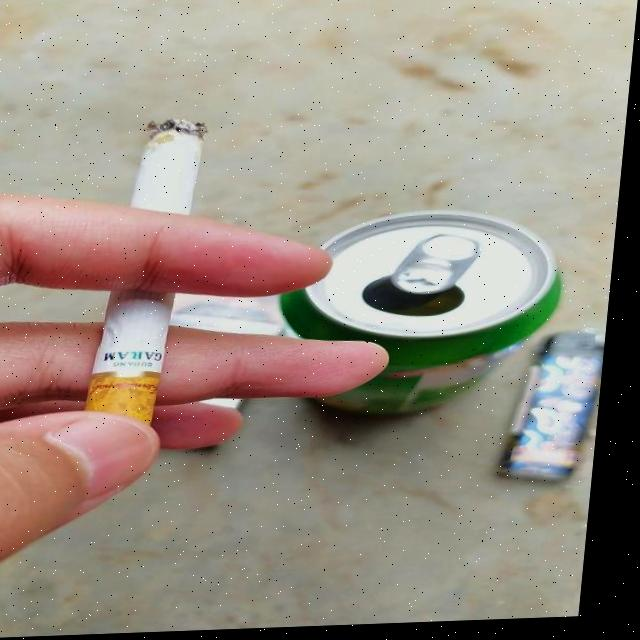cigarette: (93, 119, 211, 431)
